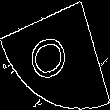O_E: (30, 26, 80, 84)
